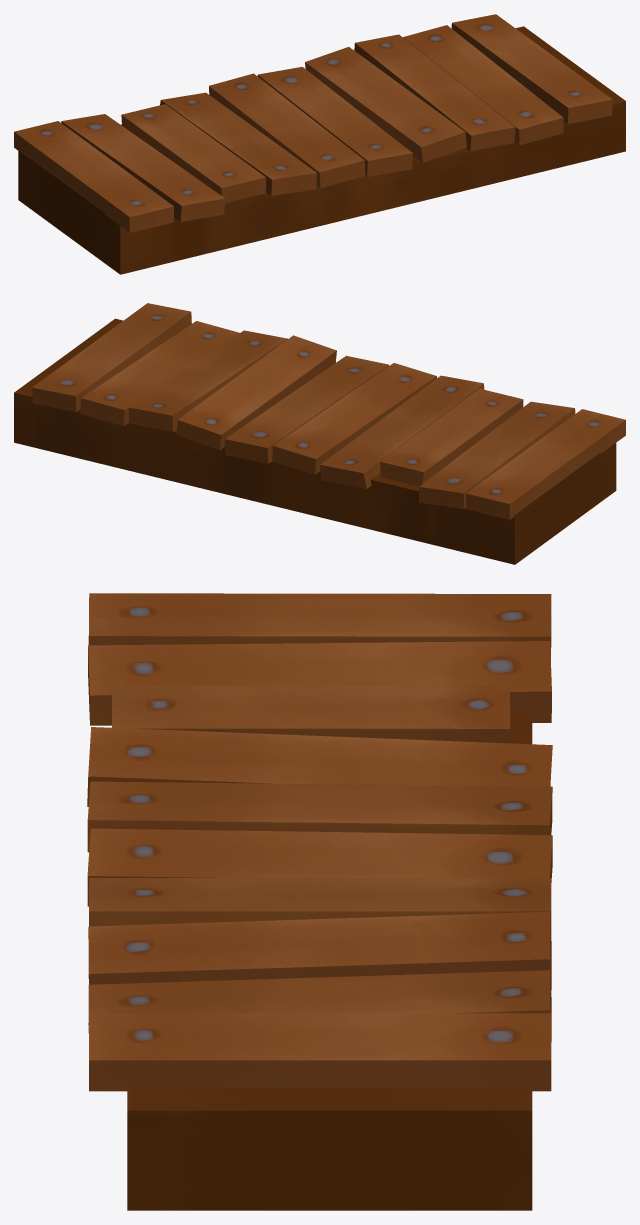
Rendered from DocksCenter1.fbx.
3 views of the same model, one above another, from view 1: azimuth 30°, elevation 25°; view 2: azimuth 150°, elevation 25°; view 3: azimuth 270°, elevation 25° (orthographic). The views are drawn at different scales.
Visible parts, largest first — view 1: SmallDock.001; view 2: SmallDock.001; view 3: SmallDock.001.
Boxes of the visible parts, x1,y1,x2,y2 form: SmallDock.001: (14,14,625,274); SmallDock.001: (14,303,625,564); SmallDock.001: (87,593,552,1210).
Size of the model in its own units: 572 by 76.29 by 230.
